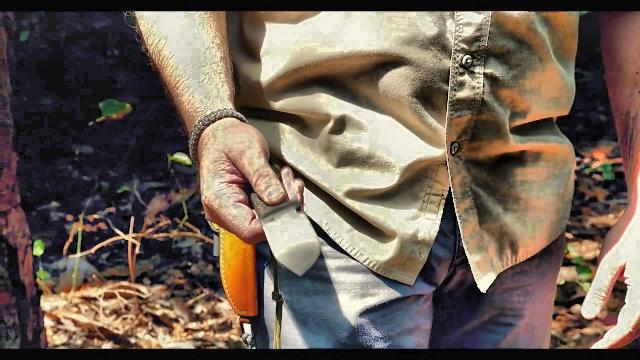knife: (194, 150, 326, 286)
